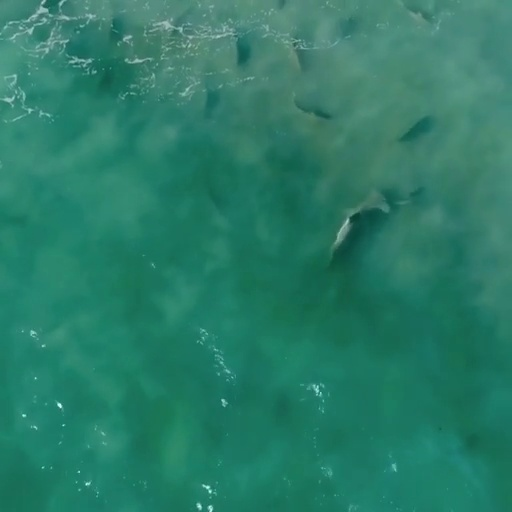shark: (322, 187, 393, 275)
